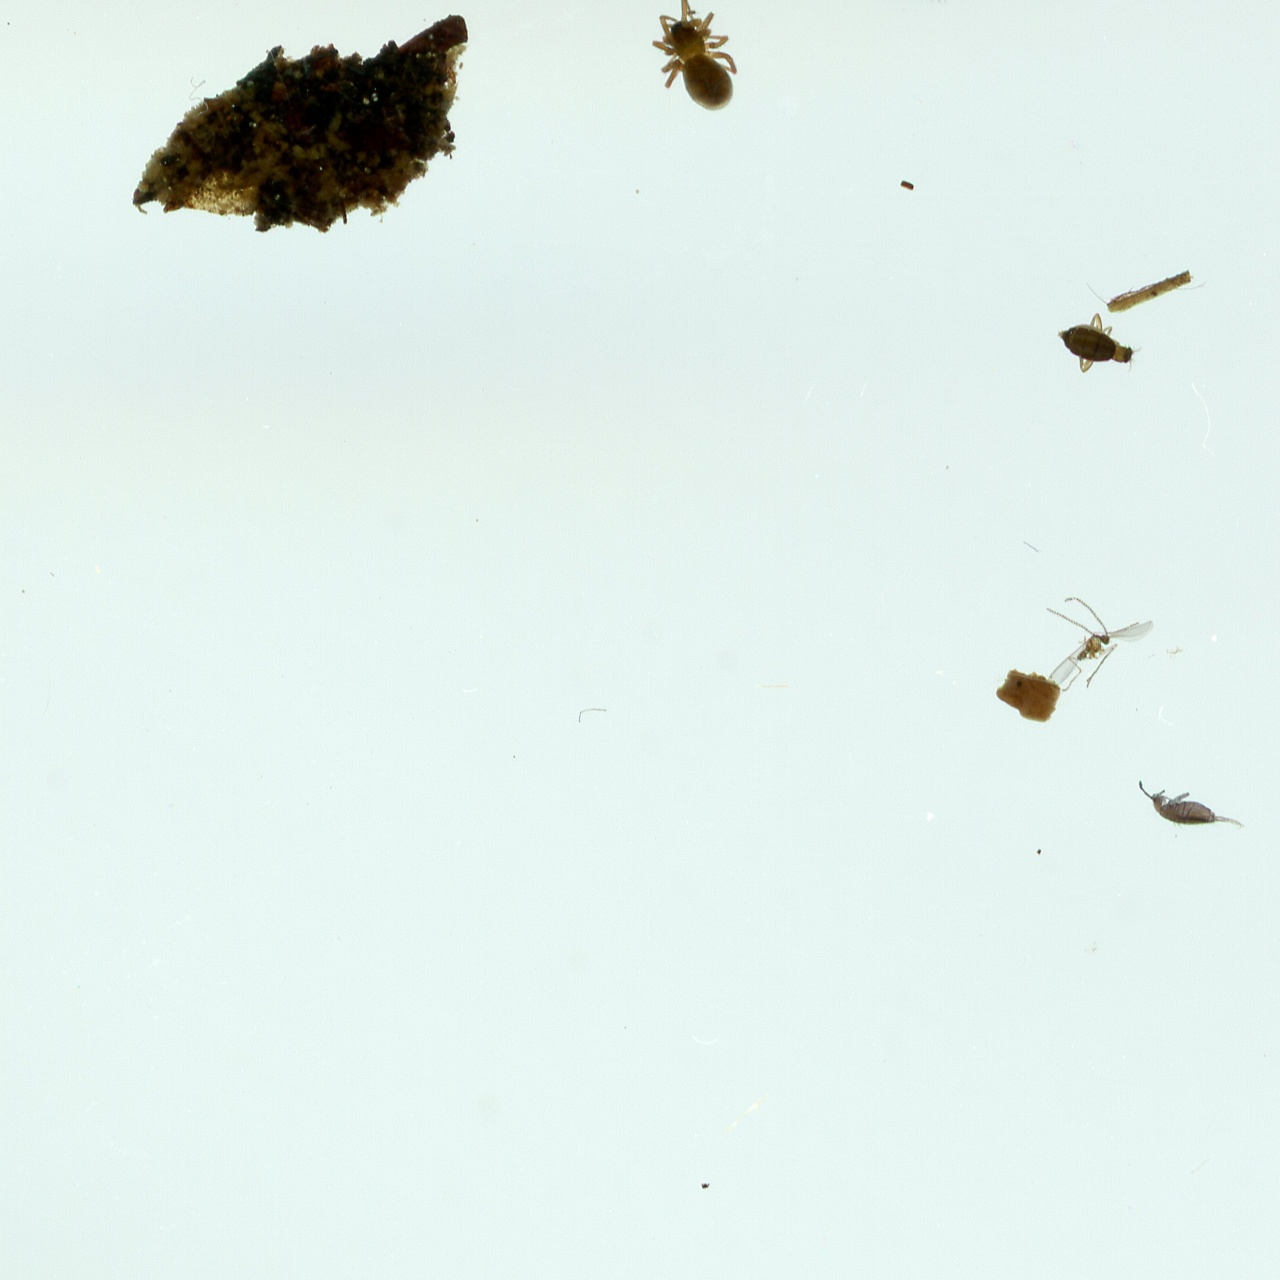arthropod: (1040, 594, 1155, 694), (653, 0, 737, 111), (1136, 776, 1244, 828), (1057, 313, 1141, 375)
